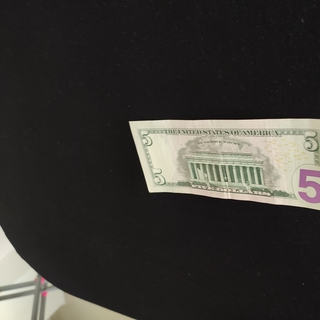5USDBack: (128, 118, 320, 213)
